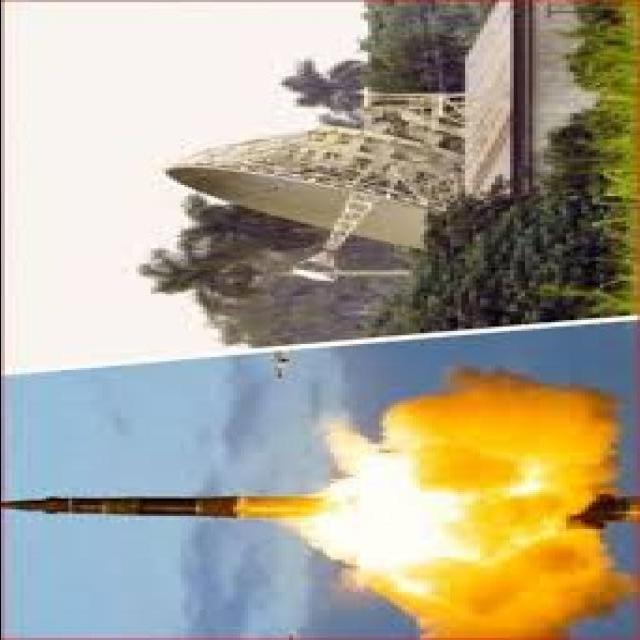Missile: (4, 493, 319, 524)
